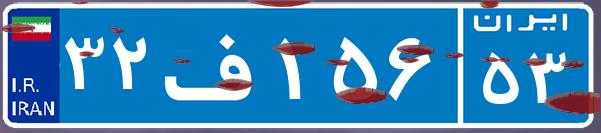1: (273, 28, 330, 110)
2: (110, 28, 158, 105)
3: (57, 26, 110, 107), (525, 38, 570, 115)
5: (330, 28, 385, 110), (475, 38, 525, 113)
6: (385, 28, 445, 110)
ف: (158, 15, 273, 115)
